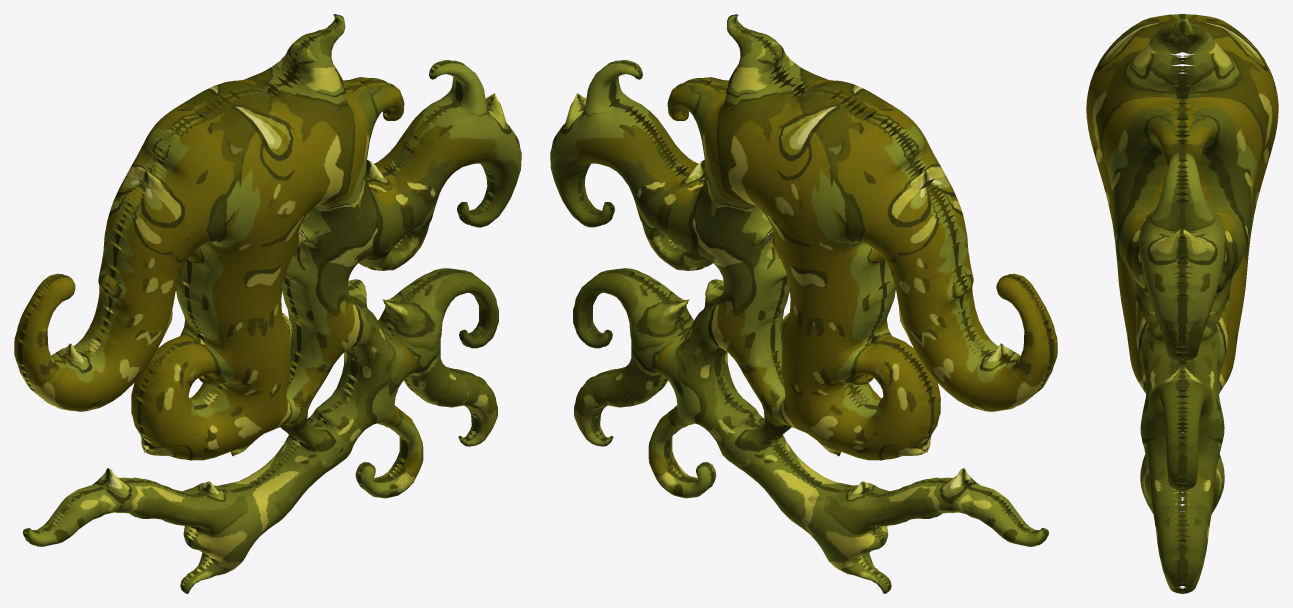
Rendered from thick_vine.glb.
The picture shows the model from 3 angles, left to right: view 1: azimuth 30°, elevation 25°; view 2: azimuth 150°, elevation 25°; view 3: azimuth 270°, elevation 25°; orthographic projection. The views are drawn at different scales.
Parts seen in each view (by area): view 1: thick_vine; view 2: thick_vine; view 3: thick_vine.
Boxes of the visible parts, x1,y1,x2,y2 form: thick_vine: [14, 14, 521, 593]; thick_vine: [550, 14, 1057, 593]; thick_vine: [1086, 14, 1278, 593].
Bounding box in the file's own units: 0.9881 × 1.03 × 0.3055.
1 material, 1 textured.
